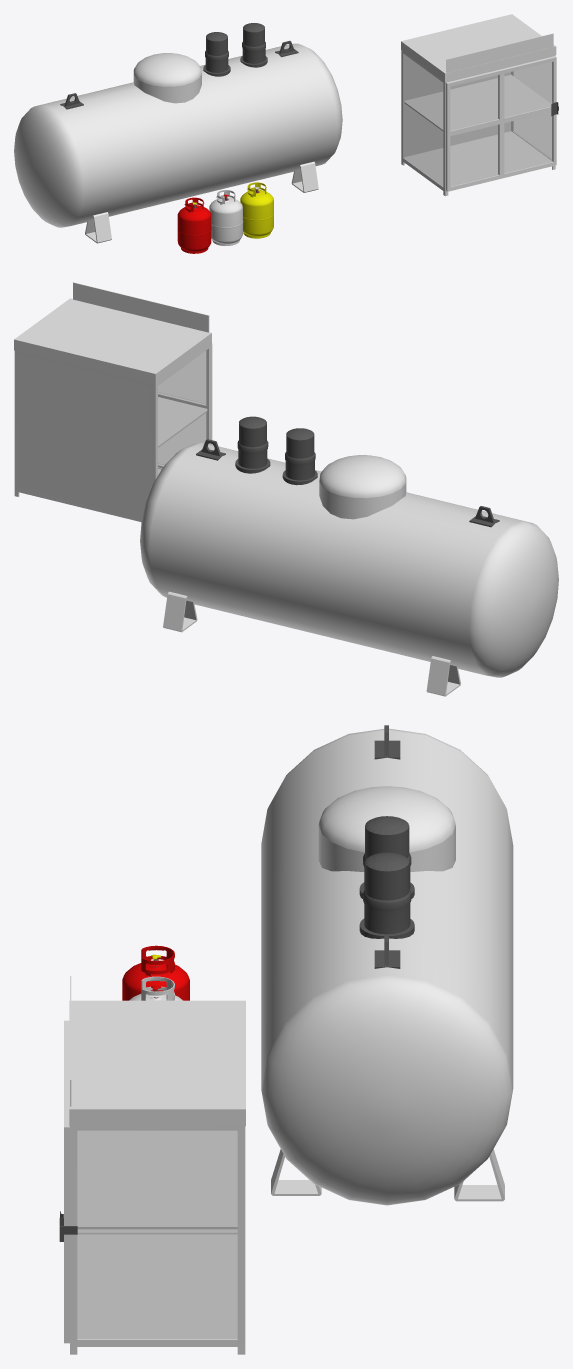
Rendered from Propane Tanks.fbx.
3 renders of one model, top to bottom at view 1: azimuth 30°, elevation 25°; view 2: azimuth 150°, elevation 25°; view 3: azimuth 270°, elevation 25°, orthographic. The views are drawn at different scales.
Visible parts, largest first — view 1: pSphere4, pCube21, pCube16, pCube18, pSphere1 (×3), pCube19, pCube11, pCube24, pCube17, pSphere8, pCube20, pCube25 (+4 smaller); view 2: pSphere4, pCube18, pCube16, pSphere8, pCube19, pCube25, pCube21, pCylinder8, pCylinder7, pCube11, Leg4, Leg3 (+1 smaller); view 3: pSphere4, pCube20, pCube16, pCube24, pCube11, pSphere8, pCube18, pCylinder7, pCylinder8, pCube17, pSphere1, Leg3 (+1 smaller).
Boxes of the visible parts, box(x1,y1,x2,y2) form: pSphere4: box(14, 43, 342, 227); pCube21: box(450, 62, 552, 186); pCube16: box(401, 14, 556, 81); pCube18: box(401, 50, 555, 196); pSphere1 (×3): box(177, 189, 273, 251); pCube19: box(404, 54, 442, 186); pCube11: box(404, 75, 551, 130); pCube24: box(405, 131, 551, 185); pCube17: box(446, 56, 556, 191); pSphere8: box(133, 53, 201, 103); pCube20: box(514, 62, 551, 158); pCube25: box(446, 33, 553, 72); pSphere4: box(140, 443, 558, 677); pCube18: box(14, 344, 211, 521); pCube16: box(14, 298, 211, 384); pSphere8: box(319, 455, 406, 519); pCube19: box(158, 349, 208, 474); pCube25: box(73, 282, 209, 332); pCube21: box(158, 351, 205, 464); pCylinder8: box(282, 428, 317, 485); pCylinder7: box(235, 416, 270, 473); pCube11: box(158, 397, 207, 447); Leg4: box(426, 656, 460, 696); Leg3: box(163, 591, 197, 632); pSphere4: box(261, 728, 513, 1205); pCube20: box(77, 1131, 237, 1338); pCube16: box(69, 1000, 245, 1126); pCube24: box(77, 1234, 237, 1338); pCube11: box(77, 1130, 237, 1229); pSphere8: box(318, 786, 455, 871); pCube18: box(70, 1126, 245, 1354); pCylinder7: box(359, 852, 414, 938); pCylinder8: box(359, 816, 414, 898); pCube17: box(64, 1020, 69, 1343); pSphere1: box(122, 958, 189, 1000); Leg3: box(454, 1149, 504, 1201).
Size of the model in its own units: 180 by 58.43 by 78.97.
